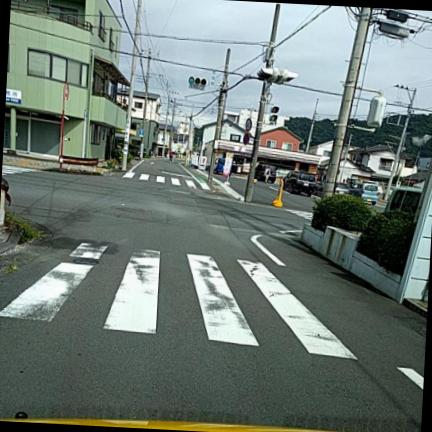Road: (0, 159, 426, 431)
